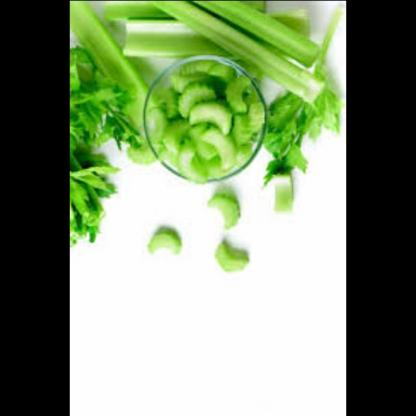celery: (98, 1, 324, 96), (69, 0, 157, 164), (144, 63, 268, 179), (265, 0, 345, 176), (69, 17, 117, 250), (207, 233, 251, 280), (139, 223, 184, 264), (264, 167, 294, 215), (206, 192, 244, 229)
